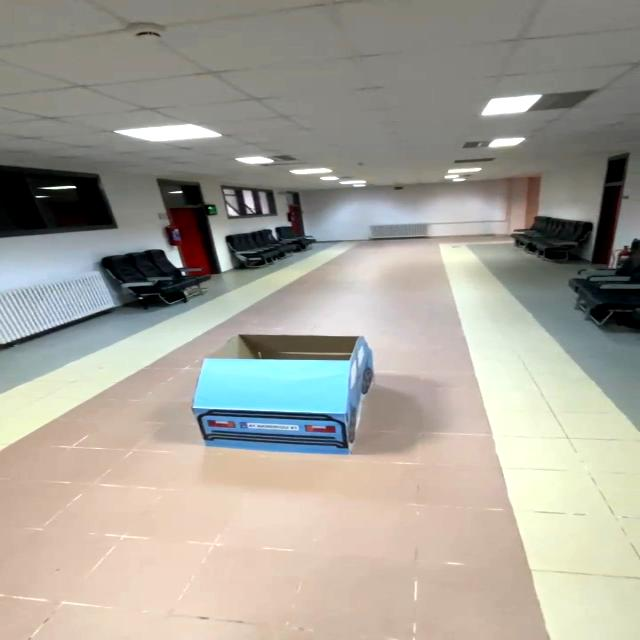blue_car: (180, 318, 393, 465)
